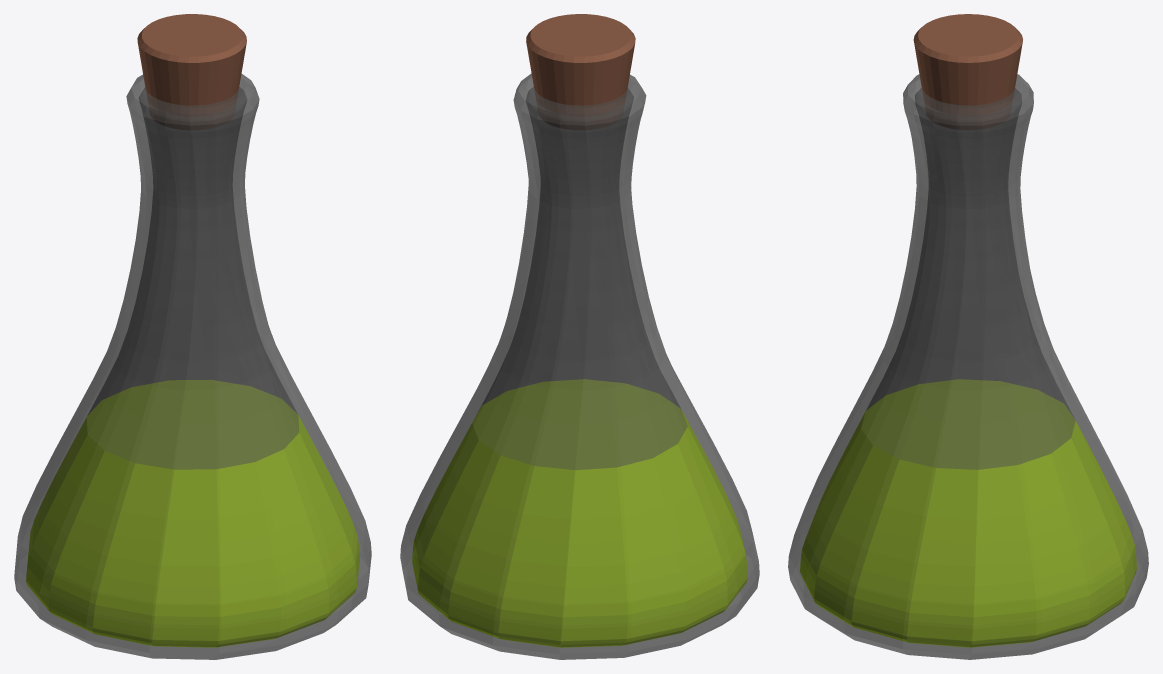
The model's file is potion3_shade1.fbx.
The picture shows the model from 3 angles, left to right: view 1: azimuth 30°, elevation 25°; view 2: azimuth 150°, elevation 25°; view 3: azimuth 270°, elevation 25°; orthographic projection.
Visible parts, largest first — view 1: potion3.004; view 2: potion3.004; view 3: potion3.004.
Boxes of the visible parts, x1,y1,x2,y2 form: potion3.004: [14, 14, 371, 659]; potion3.004: [400, 14, 759, 659]; potion3.004: [788, 14, 1148, 659].
Size of the model in its own units: 32.79 by 56.71 by 32.79.
